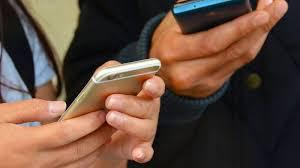Hand: (161, 2, 289, 84), (0, 96, 105, 168), (105, 75, 164, 166)
Smartphone: (67, 60, 158, 116), (170, 2, 252, 30)
